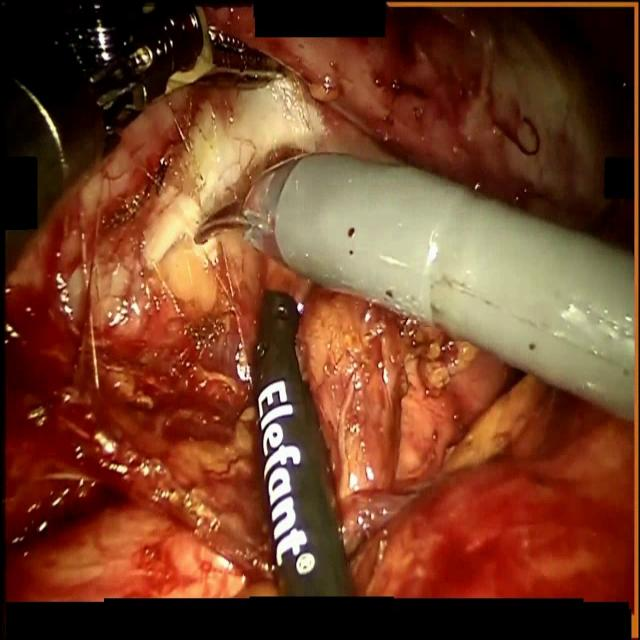surgical-area: (6, 5, 634, 600)
surgical-tool: (192, 153, 634, 421), (255, 293, 356, 596), (67, 0, 292, 129)
